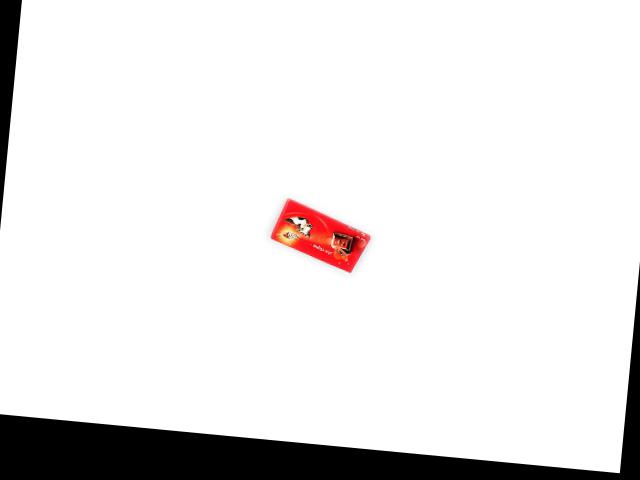chocolate: (269, 197, 374, 276)
